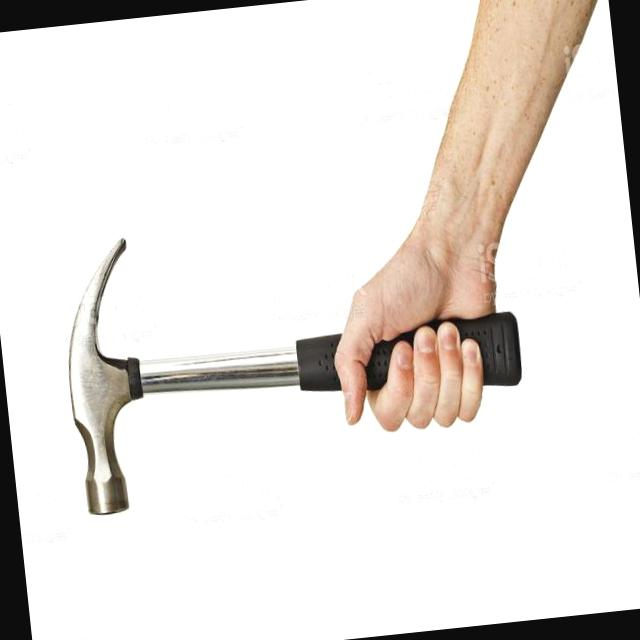hammer: (68, 239, 341, 514), (426, 311, 521, 384), (365, 329, 416, 390)
wrench: (0, 0, 640, 640)
